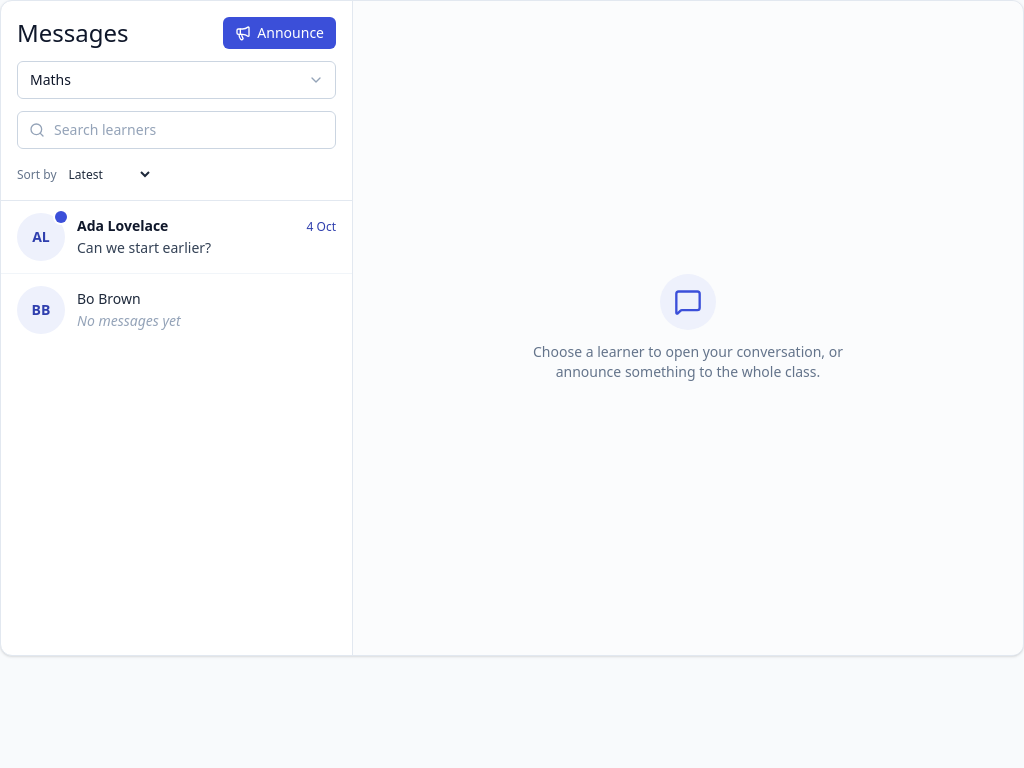
Test case: CreatorMessagesPage › announces to the whole class
This screenshot has width=1024, height=768.
Step 1. Click the button with aria-label "Announce to class" → (280, 33), box [223,17,336,49]
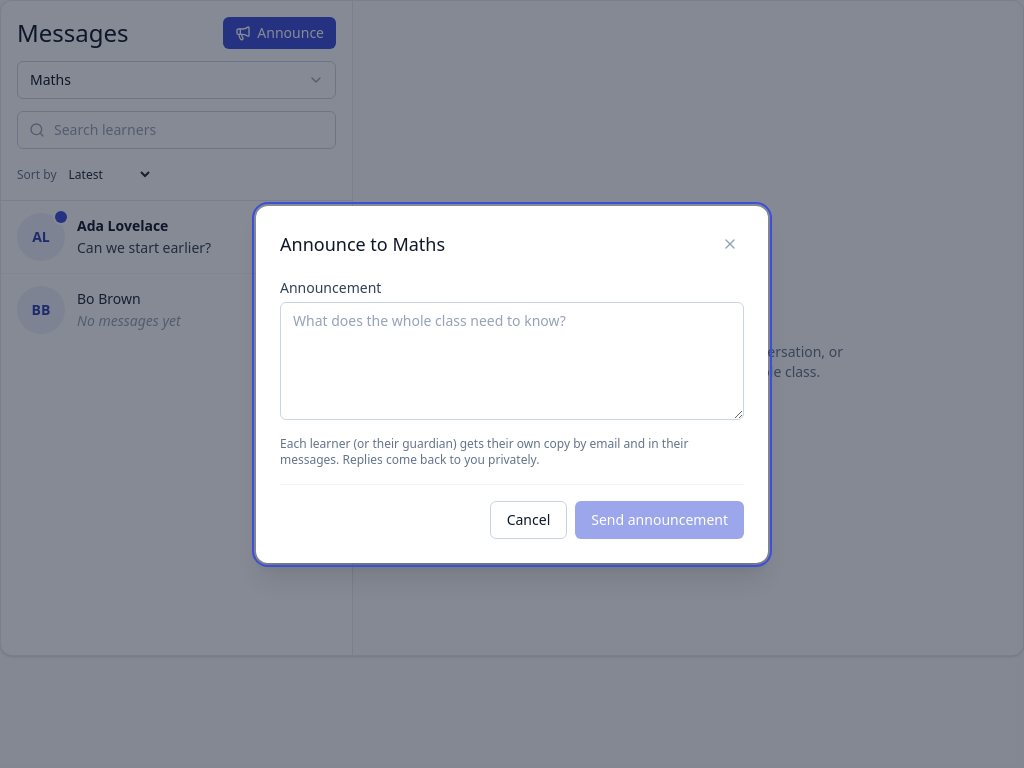
Step 2. Type "No class on Friday" into the text box labelled "Announcement" → (512, 360), box [280,302,744,420]
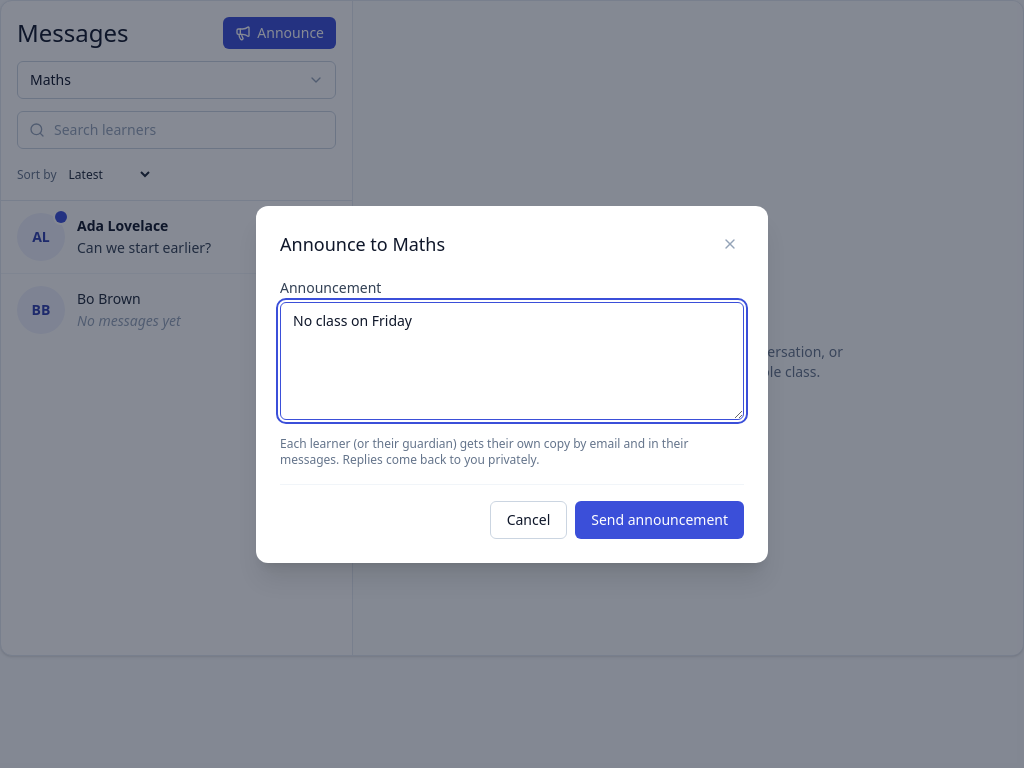
Step 3. Click the button "Send announcement" → (660, 520), box [575,500,744,538]
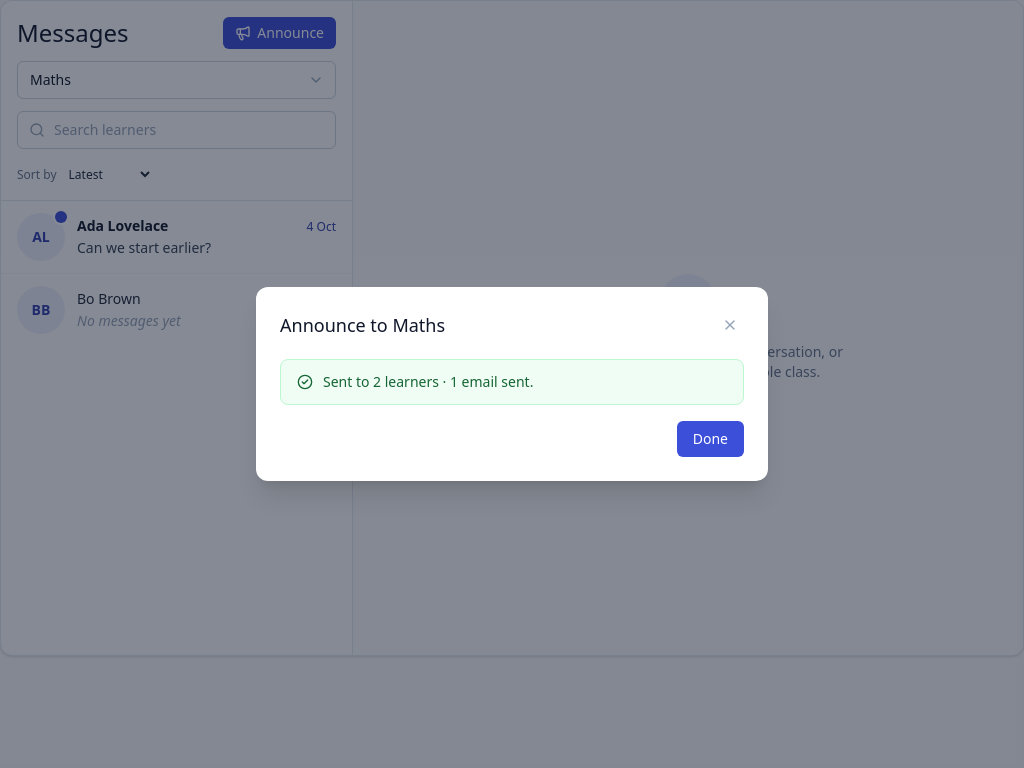
Expected: the text "Sent to 2 learners · 1 email sent." is shown, [323,372,533,392]
